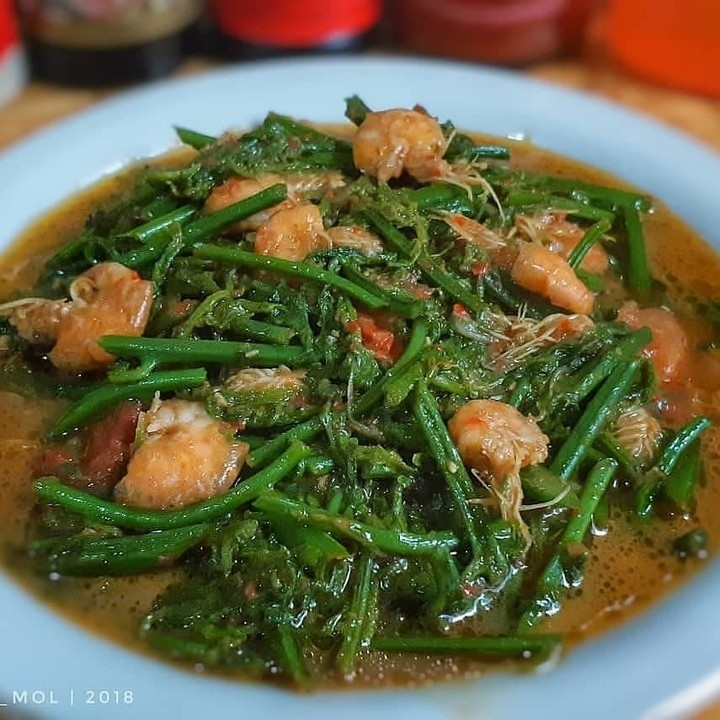buah_sayur_lainnya: (218, 278, 470, 418)
